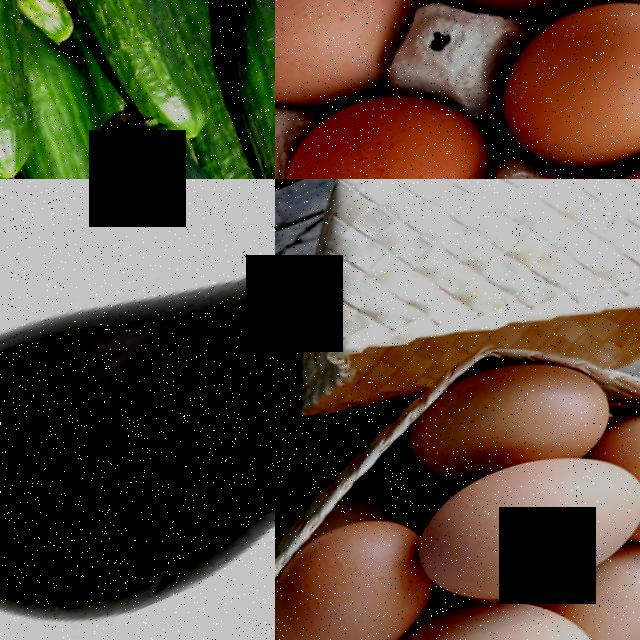cucumber: (46, 0, 225, 144), (180, 0, 275, 179), (51, 116, 275, 179), (0, 0, 71, 179)
egg_: (393, 416, 640, 627), (390, 327, 619, 493), (471, 0, 640, 179), (275, 59, 515, 179), (275, 497, 454, 640), (275, 0, 444, 135), (378, 572, 616, 640), (549, 529, 640, 640), (393, 0, 640, 39), (604, 379, 640, 548)
eggplant: (0, 179, 275, 640)
